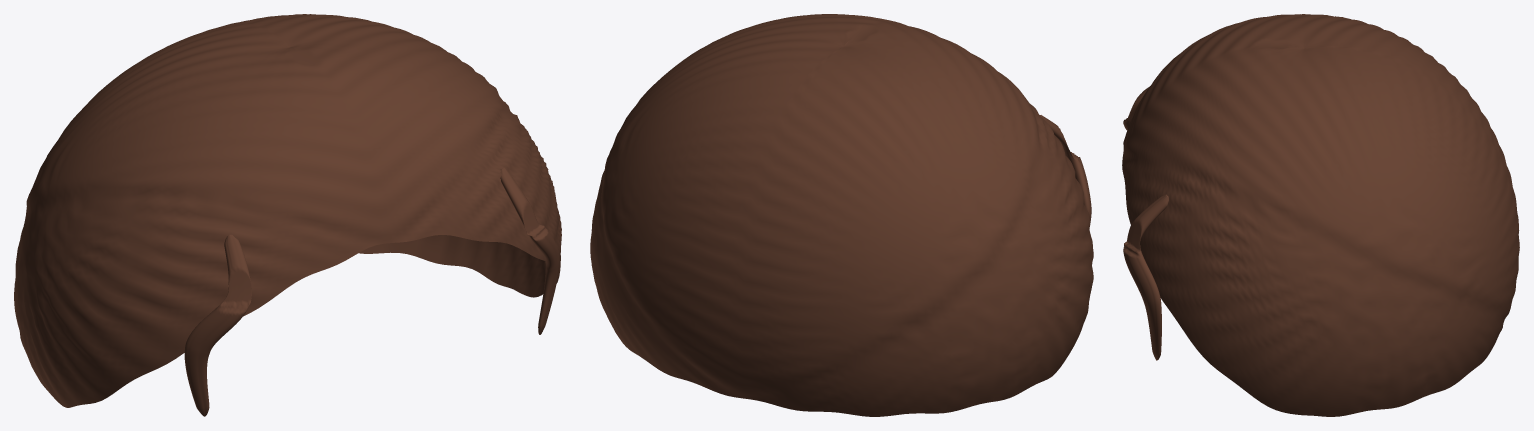
The model's file is Feminine-twin-braids-cowboy251-hair.glb.
3 renders of one model, left to right at view 1: azimuth 30°, elevation 25°; view 2: azimuth 150°, elevation 25°; view 3: azimuth 270°, elevation 25°, orthographic. The views are drawn at different scales.
Visible parts, largest first — view 1: 226 hair / Hair / chestnut226.002; view 2: 226 hair / Hair / chestnut226.002; view 3: 226 hair / Hair / chestnut226.002.
Boxes of the visible parts, <box> form: 226 hair / Hair / chestnut226.002: <box>14,14,561,416</box>; 226 hair / Hair / chestnut226.002: <box>590,14,1093,416</box>; 226 hair / Hair / chestnut226.002: <box>1122,14,1519,416</box>.
Size of the model in its own units: 0.9981 by 0.5981 by 0.7846.
